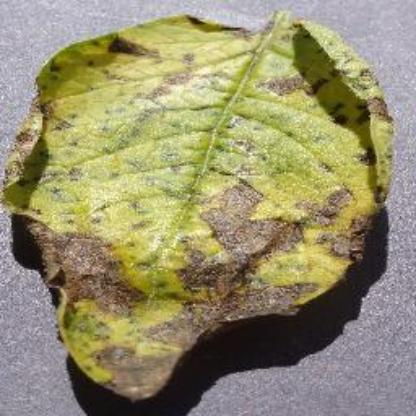Early-Blight: (6, 11, 396, 401)
